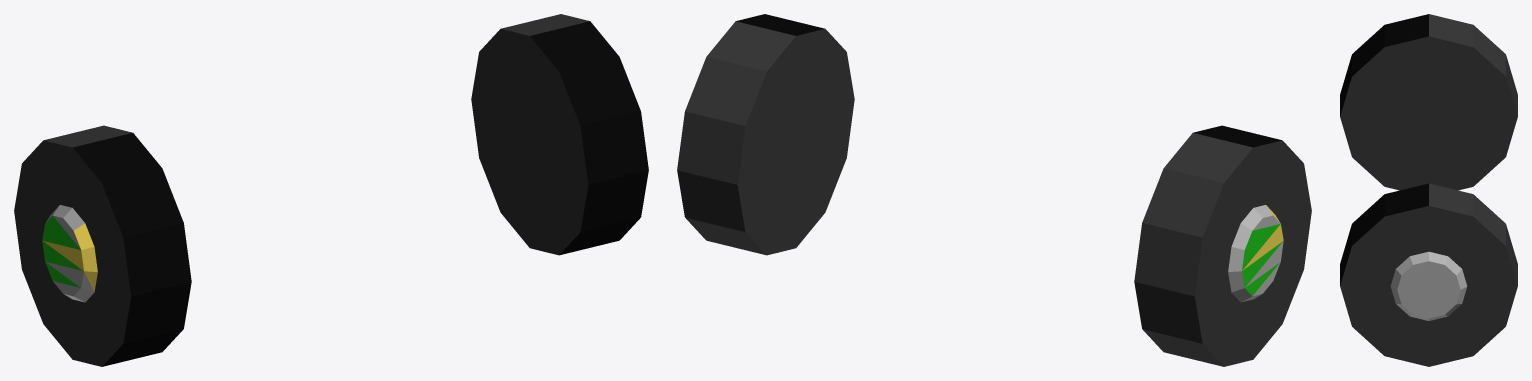
The model's file is frontWheels.obj.
The picture shows the model from 3 angles, left to right: view 1: azimuth 30°, elevation 25°; view 2: azimuth 150°, elevation 25°; view 3: azimuth 270°, elevation 25°; orthographic projection. The views are drawn at different scales.
Visible parts, largest first — view 1: tire.047_Colore_0.003; view 2: tire.047_Colore_0.003; view 3: tire.047_Colore_0.003.
Boxes of the visible parts, x1=… form: tire.047_Colore_0.003: x1=14, y1=14, x2=648, y2=366; tire.047_Colore_0.003: x1=677, y1=14, x2=1311, y2=366; tire.047_Colore_0.003: x1=1340, y1=14, x2=1517, y2=366.
Size of the model in its own units: 1.92 by 0.7248 by 0.7248.
Materials: 1 (1 with a texture image).
